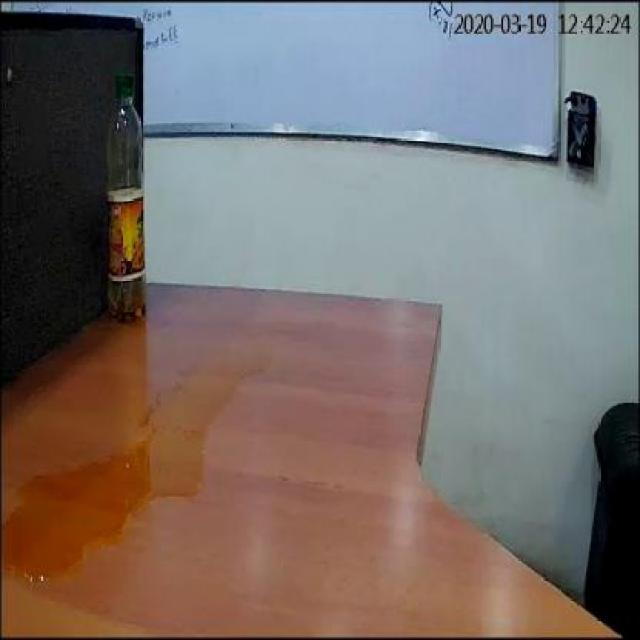spill: (2, 354, 270, 580)
